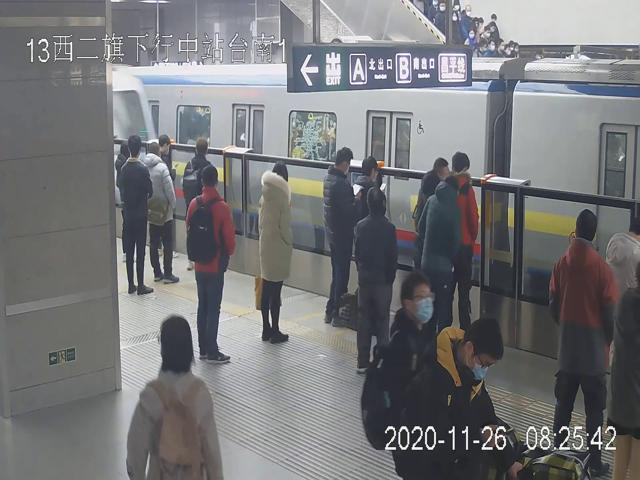person: (549, 209, 619, 478), (185, 165, 235, 364), (355, 186, 398, 373), (258, 160, 294, 343), (419, 176, 461, 330), (323, 145, 357, 330), (121, 135, 154, 294), (144, 140, 177, 283)
